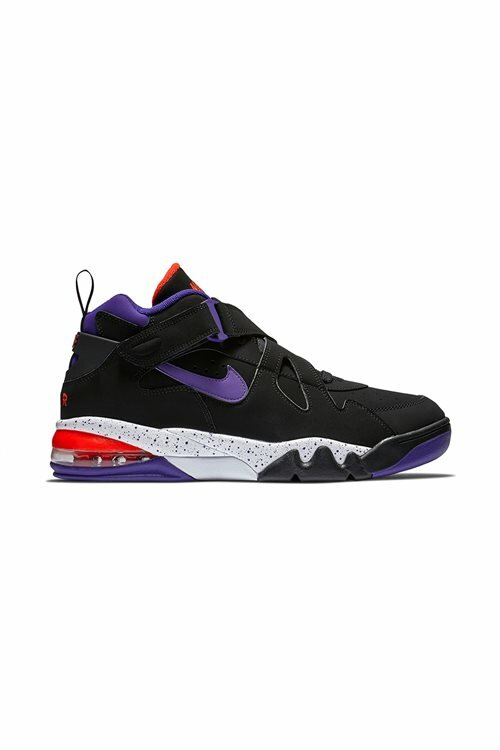nike: (162, 353, 254, 409)
